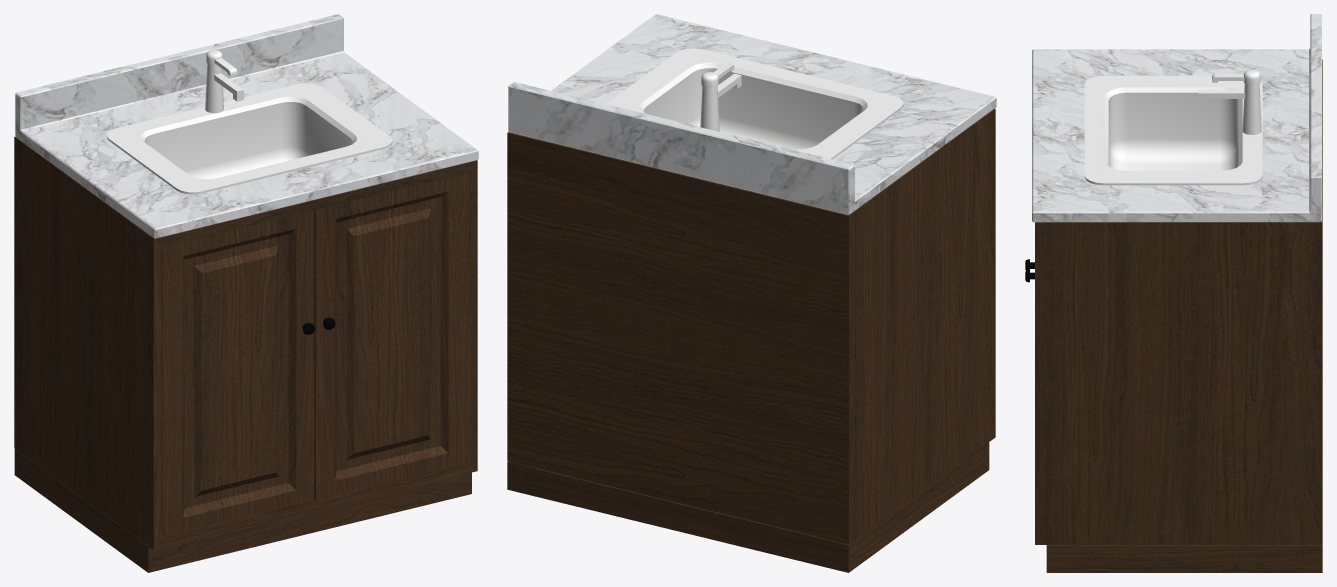
3 views of the same model, side by side, from view 1: azimuth 30°, elevation 25°; view 2: azimuth 150°, elevation 25°; view 3: azimuth 270°, elevation 25° (orthographic). The views are drawn at different scales.
Visible parts, largest first — view 1: kitchen3:pCube2_0; view 2: kitchen3:pCube2_0; view 3: kitchen3:pCube2_0.
Part boxes in pixels (left/top/right/bottom): kitchen3:pCube2_0: left=14, top=14, right=478, bottom=572; kitchen3:pCube2_0: left=507, top=14, right=996, bottom=572; kitchen3:pCube2_0: left=1025, top=14, right=1322, bottom=572.
Bounding box in the file's own units: 1.03 × 1.24 × 0.7932.
1 material, 1 textured.
